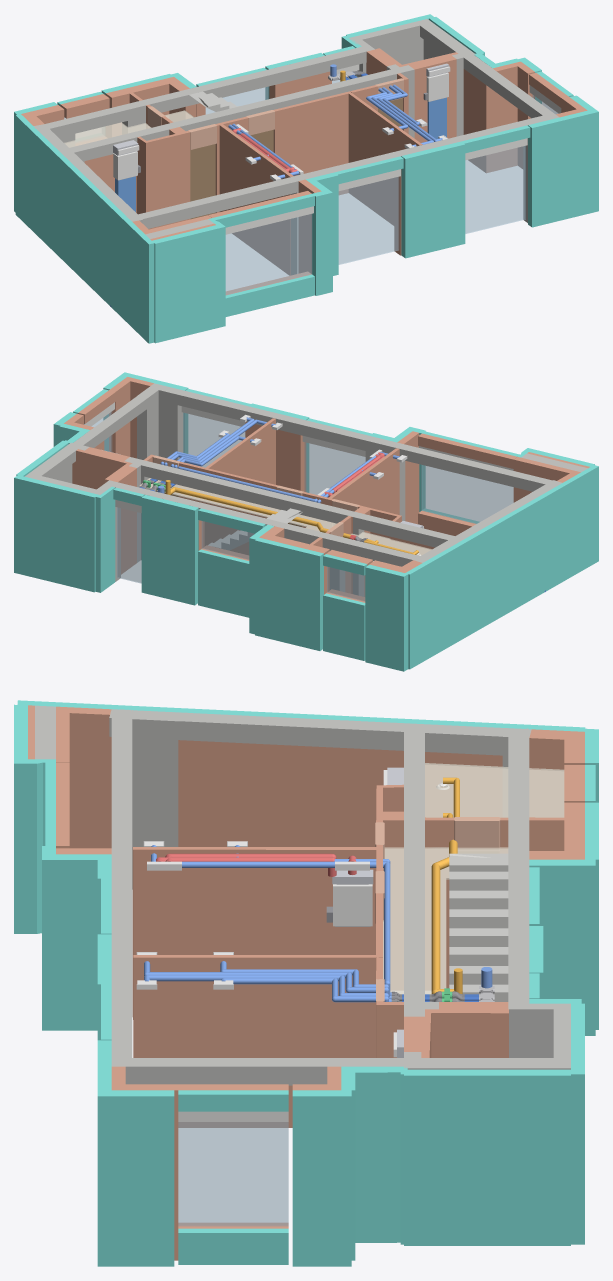
The model's file is House_AR_F1_open.glb.
3 views of the same model, one above another, from view 1: azimuth 30°, elevation 25°; view 2: azimuth 150°, elevation 25°; view 3: azimuth 270°, elevation 25° (orthographic). The views are drawn at different scales.
Visible parts, largest first — view 1: F1-ET06, F1-ET04, F1-ET17, F1-ET01, F1-EO07, F1-INTW11, F1-INTW08, F1-EO05, F1-EO06, F1-INTW10, F1-BEAM05, F1-COL07 (+47 smaller); view 2: F1-ET06, F1-ET14, F1-ET07, F1-ET18, F1-ET05, F1-EO07, F1-BEAM08, F1-BEAM02, F1-EO02-SILL-ET, F1-COL02, F1-EO01-SILL-ET, F1-INTW08 (+43 smaller); view 3: F1-ET13, F1-INTW10, F1-INTW08, F1-BW04, F1-ET02, F1-EO04, F1-ET08, F1-ET16, F1-ET10, F1-ST01, F1-ET21, F1-BEAM03 (+52 smaller).
Part boxes in pixels (x1,y1,x2,y2): F1-ET06: (15, 114, 154, 343); F1-ET04: (152, 224, 225, 343); F1-ET17: (401, 142, 465, 258); F1-ET01: (528, 110, 591, 227); F1-EO07: (225, 214, 312, 295); F1-INTW11: (273, 91, 351, 194); F1-INTW08: (217, 124, 293, 275); F1-EO05: (465, 146, 525, 233); F1-EO06: (338, 177, 398, 264); F1-INTW10: (348, 93, 422, 225); F1-BEAM05: (128, 45, 374, 120); F1-COL07: (349, 19, 475, 136); F1-ET06: (405, 465, 598, 669); F1-ET14: (14, 475, 97, 592); F1-ET07: (255, 537, 323, 650); F1-ET18: (141, 495, 198, 605); F1-ET05: (365, 564, 409, 671); F1-EO07: (421, 465, 513, 523); F1-BEAM08: (124, 460, 361, 523); F1-BEAM02: (149, 383, 404, 450); F1-EO02-SILL-ET: (198, 549, 249, 617); F1-COL02: (137, 384, 183, 460); F1-EO01-SILL-ET: (323, 593, 365, 660); F1-INTW08: (328, 448, 399, 514); F1-ET13: (407, 1069, 570, 1245); F1-INTW10: (133, 955, 375, 1127); F1-INTW08: (132, 847, 376, 1019); F1-BW04: (178, 740, 403, 846); F1-ET02: (97, 1090, 174, 1266); F1-EO04: (178, 1122, 288, 1226); F1-ET08: (292, 1090, 351, 1266); F1-ET16: (529, 859, 595, 1035); F1-ET10: (355, 1066, 400, 1242); F1-ST01: (449, 853, 508, 1001); F1-ET21: (56, 854, 97, 1030); F1-BEAM03: (109, 709, 426, 750).
Size of the model in its own units: 13.45 by 2.7 by 8.4.
